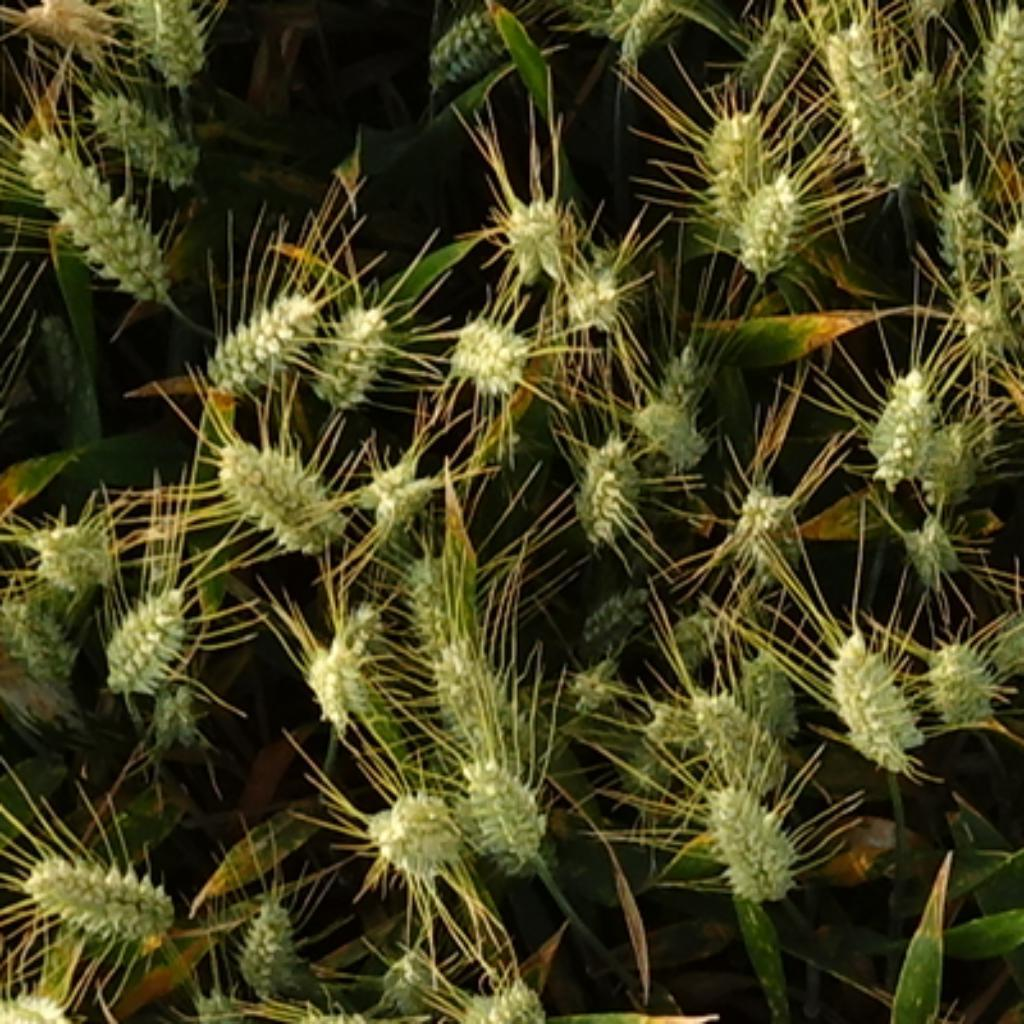0-0: (10, 115, 184, 302), (811, 10, 942, 176), (20, 829, 181, 942), (207, 419, 343, 550), (417, 611, 532, 755), (192, 271, 320, 391), (696, 768, 806, 901), (824, 624, 926, 765), (857, 358, 962, 486), (81, 74, 204, 176), (94, 576, 199, 691), (455, 739, 552, 862), (688, 680, 798, 788), (688, 94, 778, 207), (724, 156, 814, 268), (399, 532, 488, 645), (312, 289, 399, 404), (296, 624, 384, 737), (565, 424, 650, 535), (419, 2, 517, 97), (348, 803, 450, 888), (721, 465, 806, 563), (230, 888, 309, 993), (2, 583, 81, 688), (443, 302, 533, 394), (25, 501, 120, 588), (378, 773, 468, 862), (494, 181, 578, 273), (115, 2, 212, 81), (732, 2, 819, 89), (965, 2, 1024, 128), (924, 629, 1000, 719), (633, 388, 708, 478), (645, 606, 744, 673), (929, 166, 995, 266), (732, 642, 801, 737), (358, 445, 440, 524), (574, 578, 656, 655), (558, 243, 632, 327), (919, 414, 995, 494), (450, 965, 552, 1024), (947, 268, 1018, 348), (903, 58, 954, 163), (12, 2, 115, 53), (138, 660, 204, 739), (376, 931, 445, 1006), (893, 504, 960, 576), (640, 693, 716, 755), (2, 977, 79, 1024), (666, 341, 713, 417), (186, 977, 261, 1024), (565, 652, 622, 709), (602, 0, 670, 46), (289, 993, 386, 1024), (332, 596, 396, 642), (995, 207, 1024, 291), (464, 428, 517, 472), (997, 611, 1024, 673), (1021, 299, 1024, 445)
